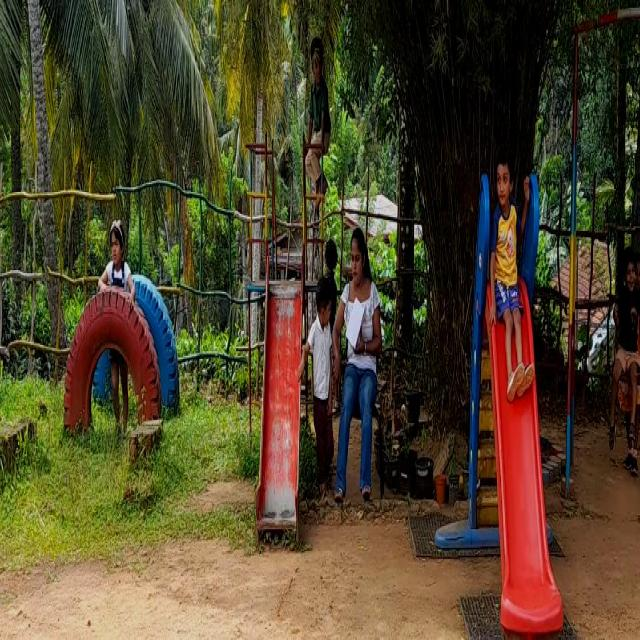adult: (340, 224, 384, 508)
child: (491, 142, 532, 412), (609, 229, 640, 486), (308, 262, 337, 492), (304, 35, 334, 199)
